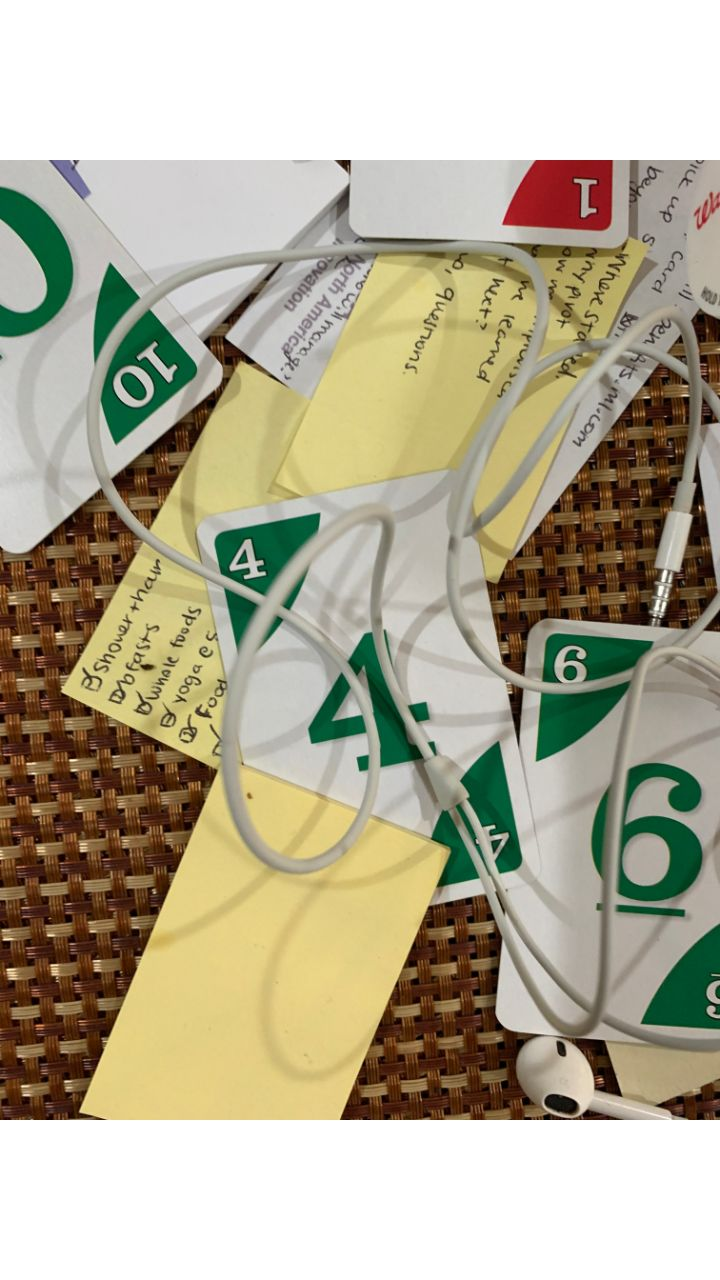four: (197, 471, 540, 903)
six: (492, 611, 720, 1051)
